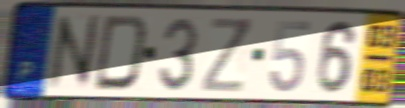3: (156, 15, 200, 94)
5: (268, 18, 313, 94)
6: (314, 18, 360, 96)
D: (90, 13, 151, 94)
N: (46, 12, 102, 94)
Z: (200, 16, 254, 95)
